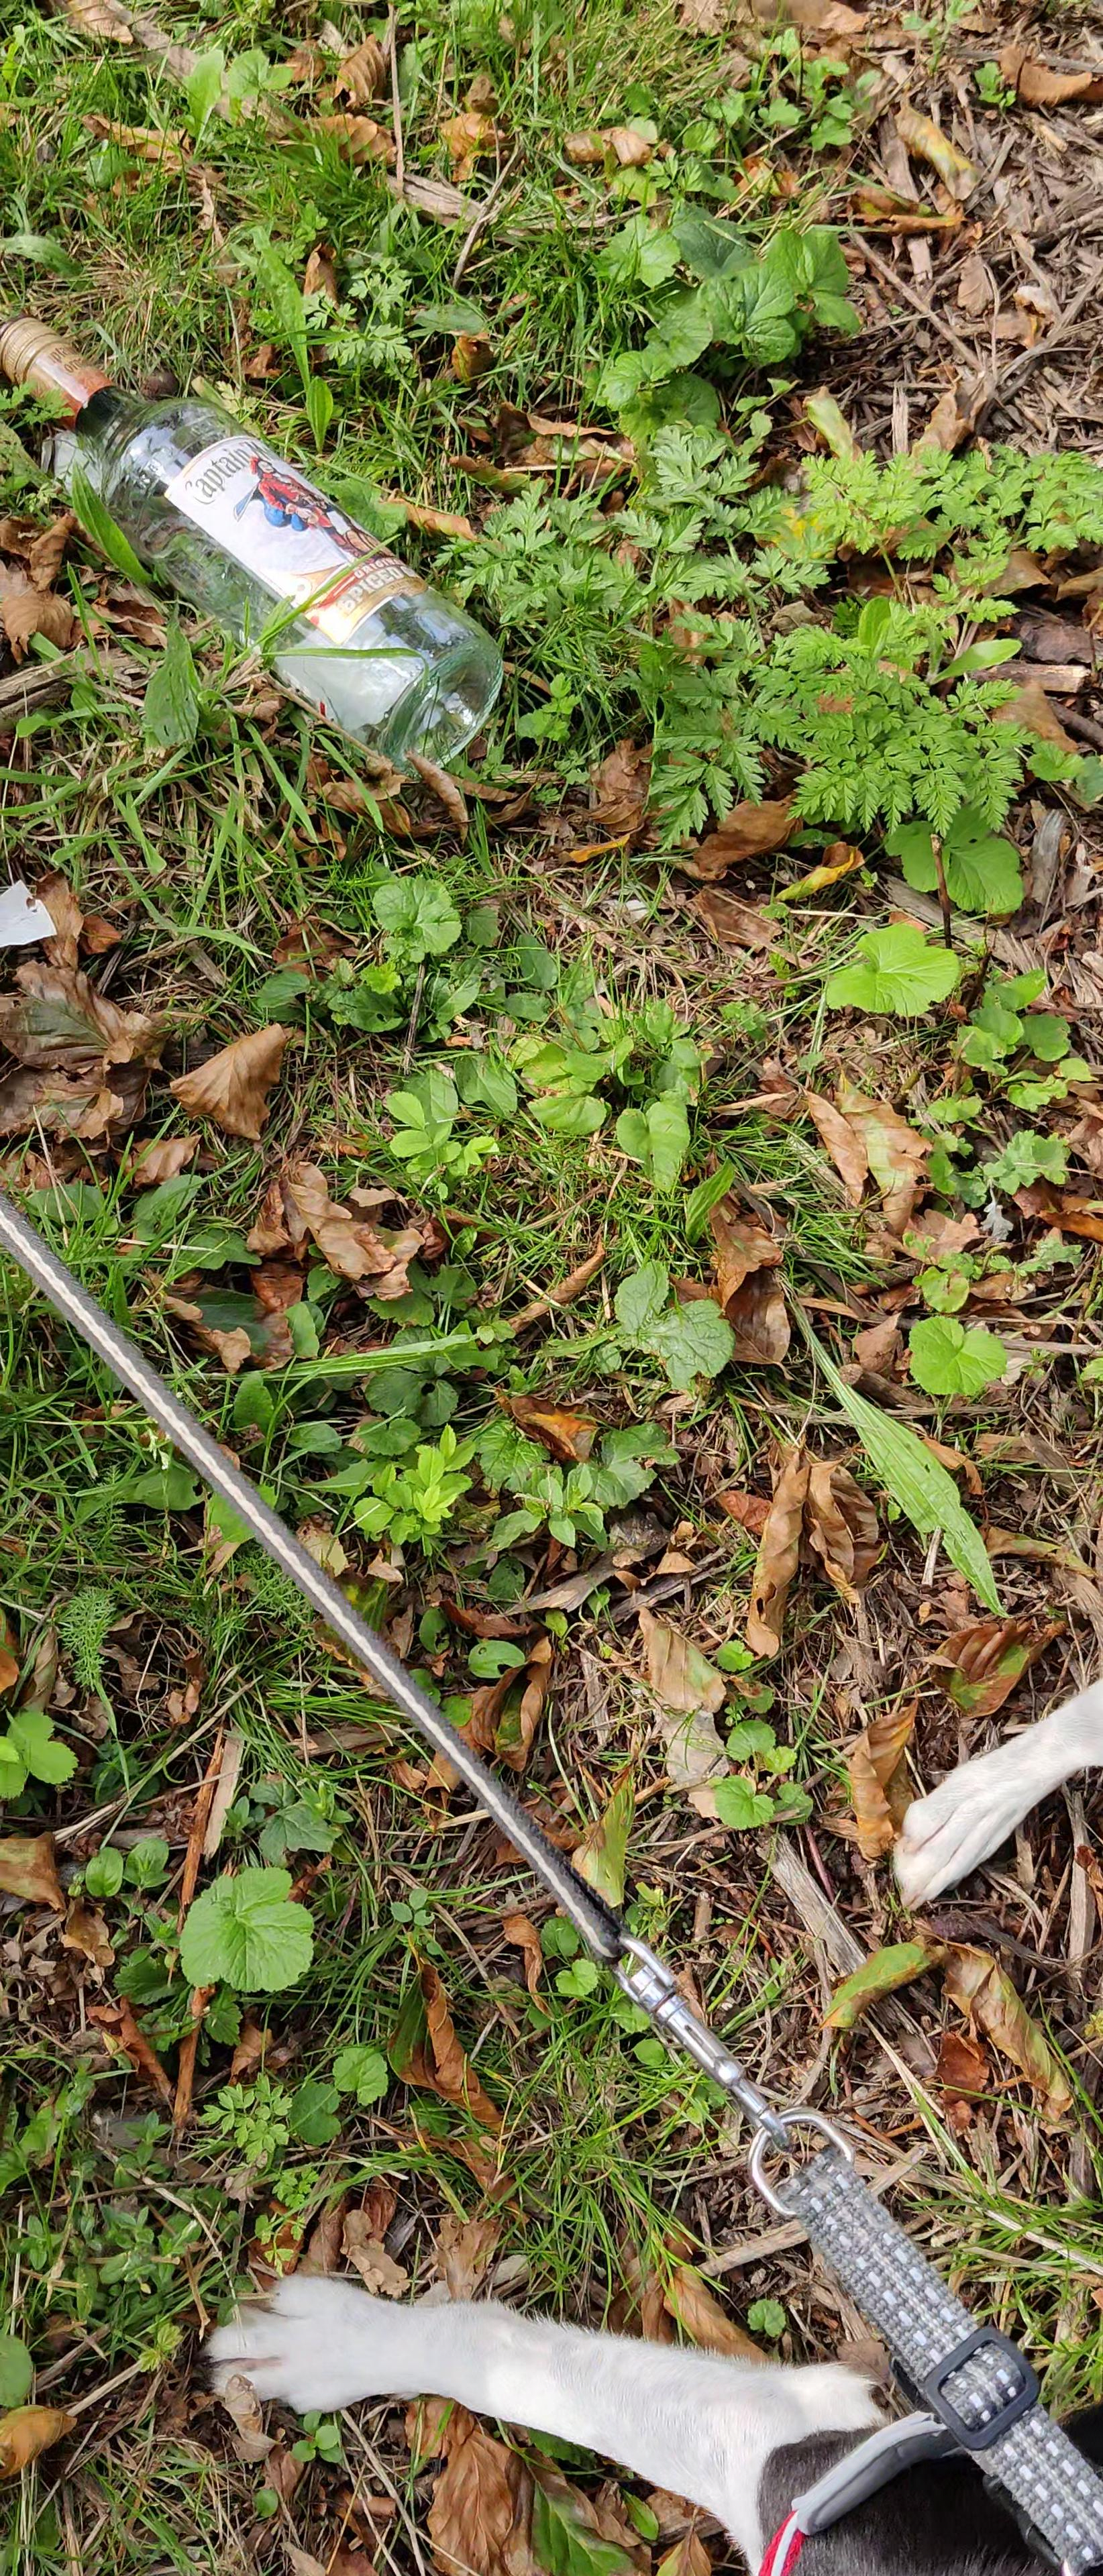Dog: (189, 1617, 1103, 2576)
